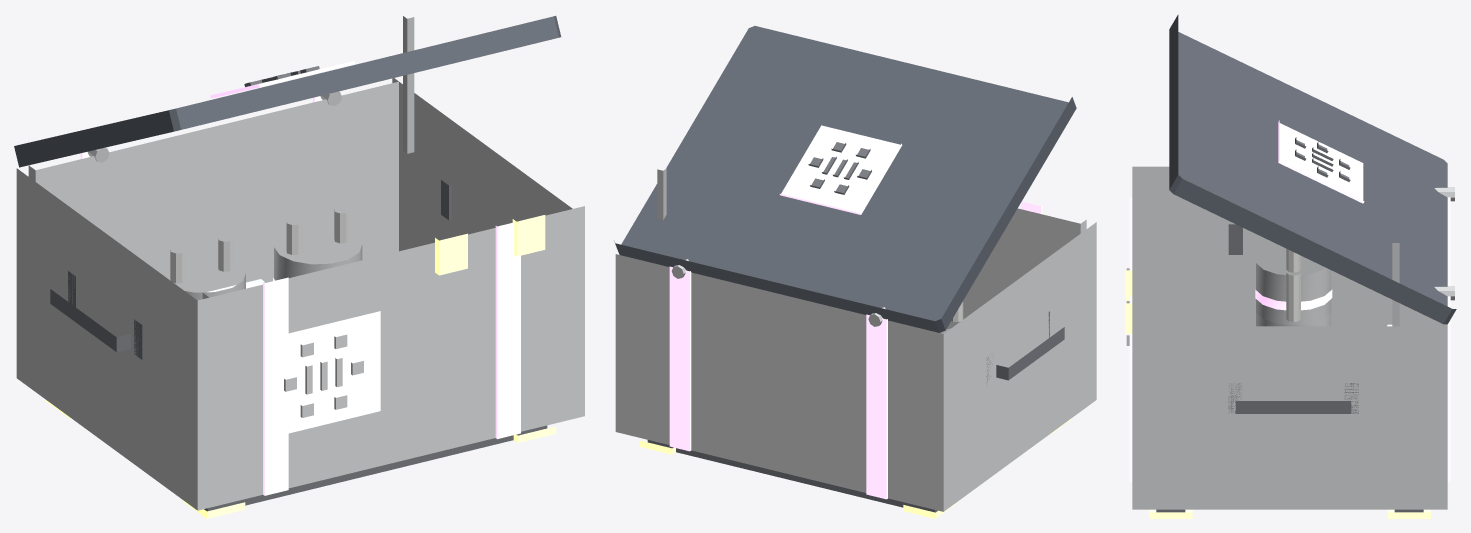
The model's file is iter_04_204.glb.
The picture shows the model from 3 angles, left to right: view 1: azimuth 30°, elevation 25°; view 2: azimuth 150°, elevation 25°; view 3: azimuth 270°, elevation 25°; orthographic projection. The views are drawn at different scales.
Visible parts, largest first — view 1: Body_204, Lid_204, Glyph_Plate_204, Straps_204, Latches_204, Handles_204, Skids_204, Emitter_ceramic_204, Glyph_Marks_204, Emitter_alloy_204, Lid_Prop_204, Floor_Clamps_204; view 2: Body_204, Lid_204, Straps_204, Lid_Glyph_204, Skids_204, Handles_204, Lid_Glyph_Marks_204, Floor_Clamps_204; view 3: Body_204, Lid_204, Lid_Glyph_204, Emitter_alloy_204, Handles_204, Straps_204, Emitter_ceramic_204, Floor_Clamps_204, Lid_Glyph_Marks_204, Emitter_violet_204, Lid_Prop_204, Latches_204.
Part boxes in pixels (x1,y1,x2,y2): Body_204: [16, 78, 584, 510]; Lid_204: [14, 16, 561, 167]; Glyph_Plate_204: [266, 311, 380, 438]; Straps_204: [80, 96, 520, 495]; Latches_204: [435, 215, 545, 275]; Handles_204: [50, 180, 451, 359]; Skids_204: [204, 425, 547, 511]; Emitter_ceramic_204: [170, 209, 349, 283]; Glyph_Marks_204: [284, 334, 363, 417]; Emitter_alloy_204: [185, 245, 362, 300]; Lid_Prop_204: [403, 16, 414, 153]; Floor_Clamps_204: [45, 400, 556, 518]; Body_204: [615, 208, 1096, 511]; Lid_204: [614, 26, 1076, 332]; Straps_204: [669, 201, 1042, 499]; Lid_Glyph_204: [779, 125, 902, 214]; Skids_204: [647, 440, 937, 512]; Handles_204: [986, 311, 1064, 382]; Lid_Glyph_Marks_204: [808, 142, 871, 194]; Floor_Clamps_204: [640, 418, 1072, 518]; Body_204: [1132, 166, 1447, 509]; Lid_204: [1169, 14, 1456, 324]; Lid_Glyph_204: [1278, 120, 1364, 203]; Emitter_alloy_204: [1256, 263, 1331, 326]; Handles_204: [1228, 224, 1358, 413]; Straps_204: [1129, 197, 1450, 481]; Emitter_ceramic_204: [1286, 249, 1300, 321]; Floor_Clamps_204: [1149, 509, 1430, 518]; Lid_Glyph_Marks_204: [1295, 137, 1350, 181]; Emitter_violet_204: [1255, 289, 1332, 310]; Lid_Prop_204: [1392, 243, 1399, 326]; Latches_204: [1125, 270, 1132, 333].
Bounding box in the file's own units: 0.9 × 0.8028 × 0.6888.
